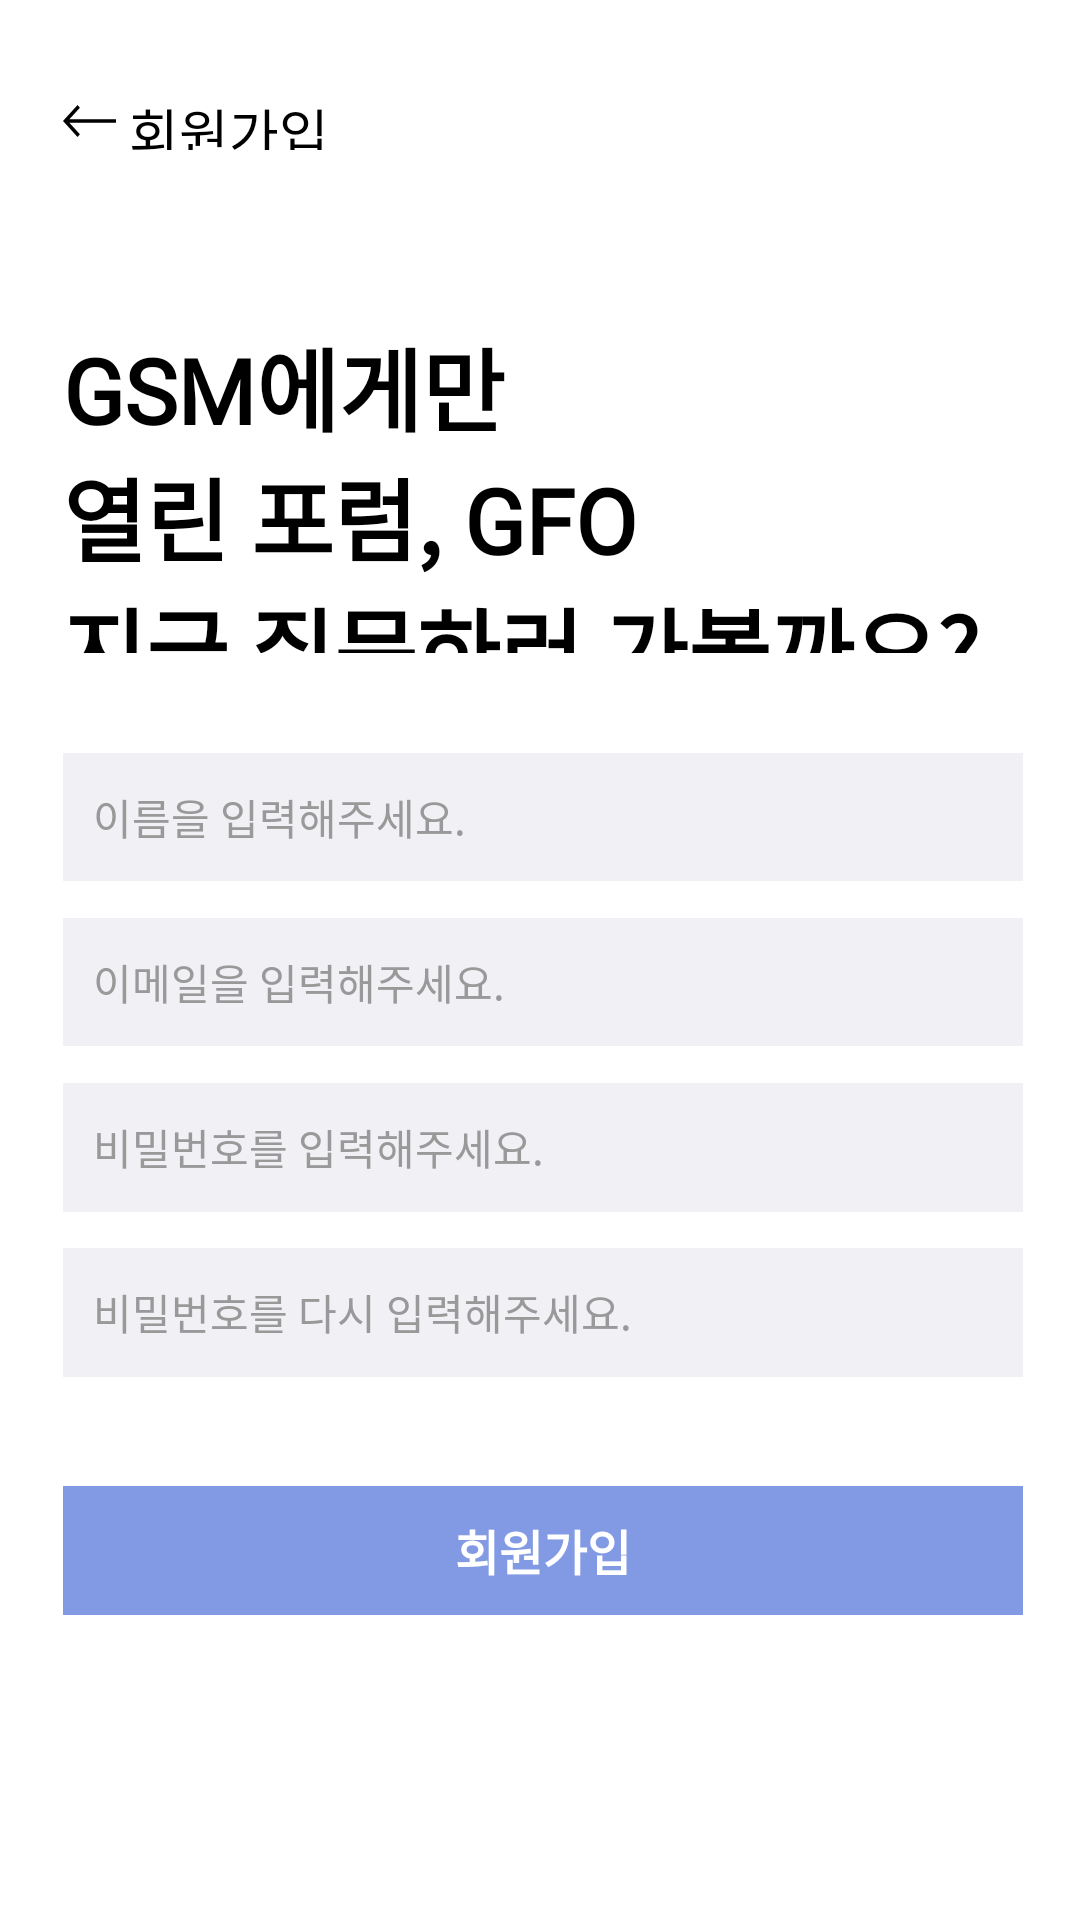

Screen size 1080px x 1920px. Icon name, then its center in pixels as (x,y):
arrow left: (89,121)
